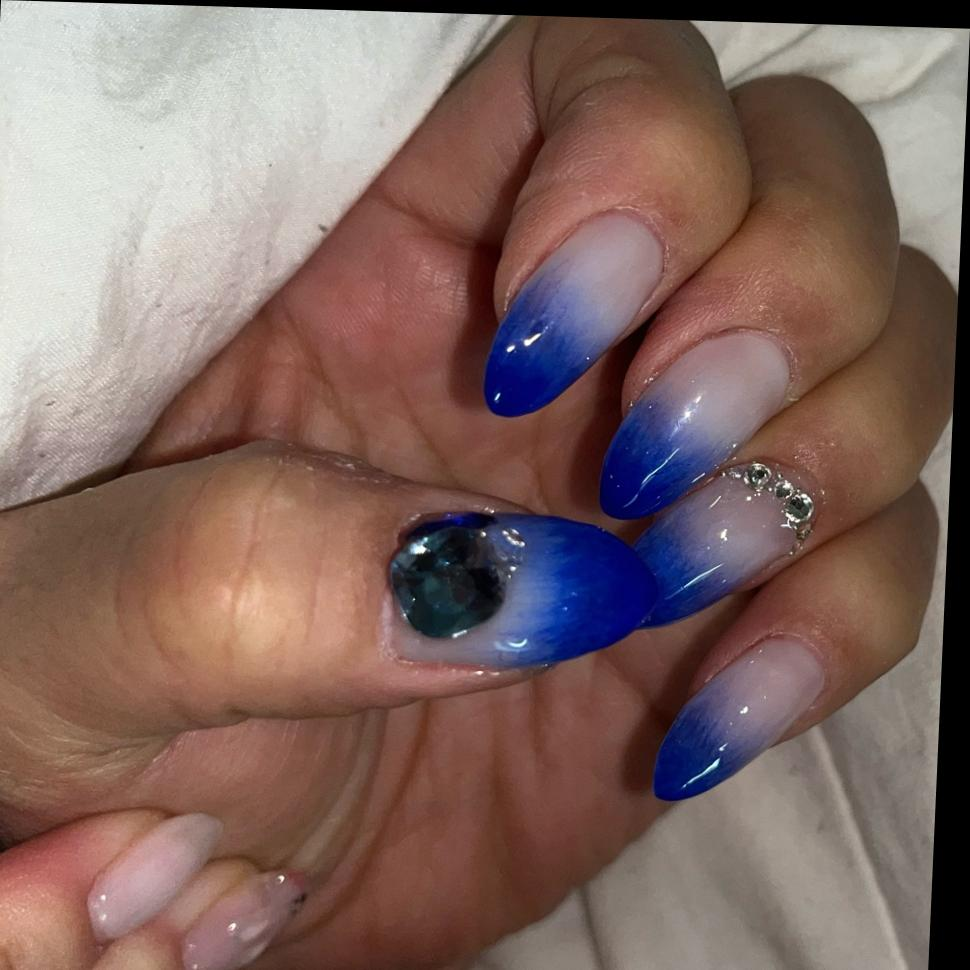nail: (379, 506, 662, 677), (480, 204, 671, 424), (596, 324, 796, 527), (627, 456, 824, 637), (650, 630, 830, 808), (83, 810, 224, 949), (179, 866, 312, 970)
